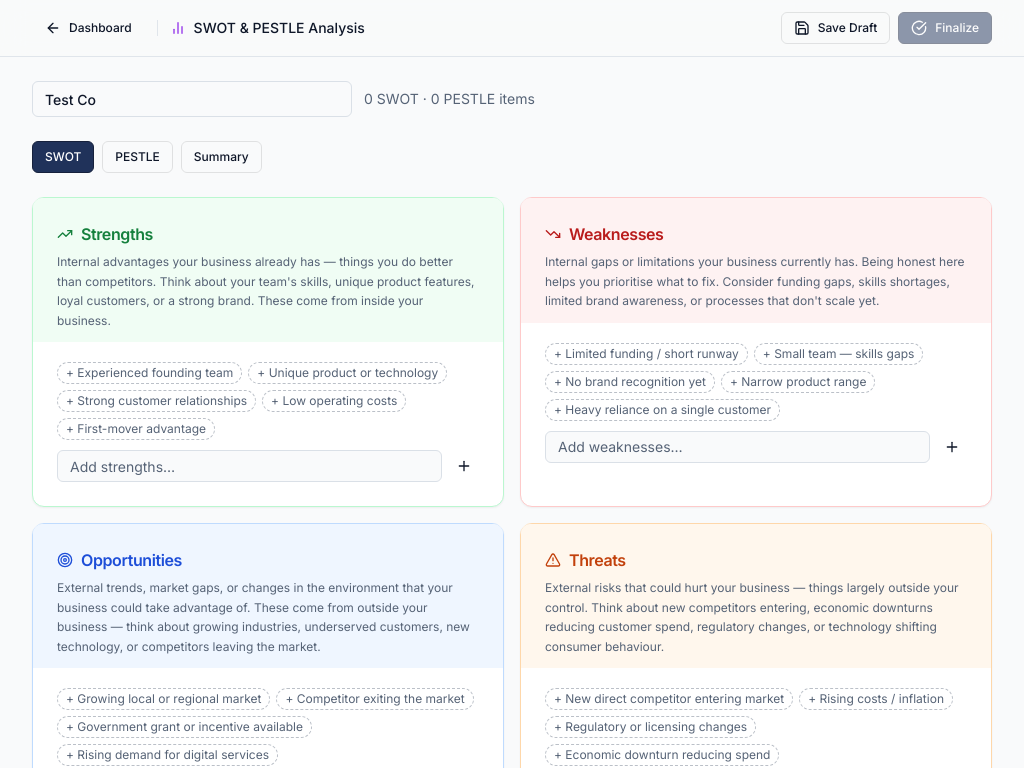
SWOTPestleTool › switching back to SWOT from PESTLE restores SWOT headings
The image size is (1024, 768).
What coordinates should you click on to do the following:
click the button with test id "button-tab-pestle"
I would click on:
 (138, 157)
Its box is [102,141,173,173].
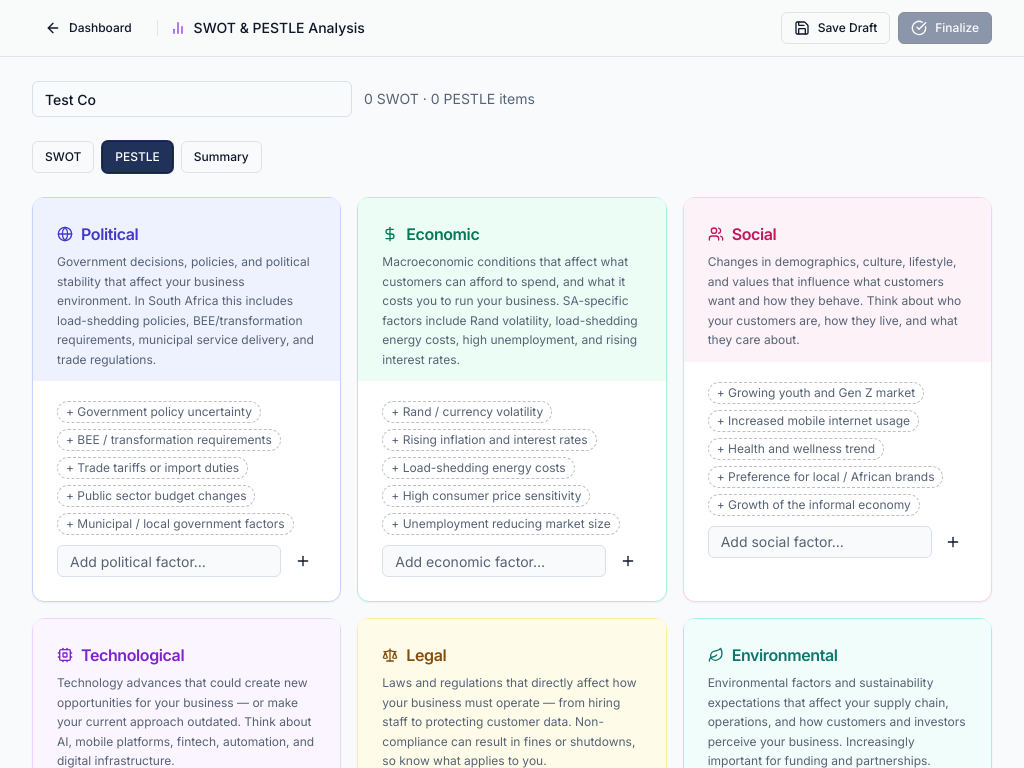
Expected: the text "Political" is shown, [57,224,138,244]
What coordinates should you click on to do the following:
click the button with test id "button-tab-swot"
I would click on:
 (63, 157)
Its box is [32,141,94,173].
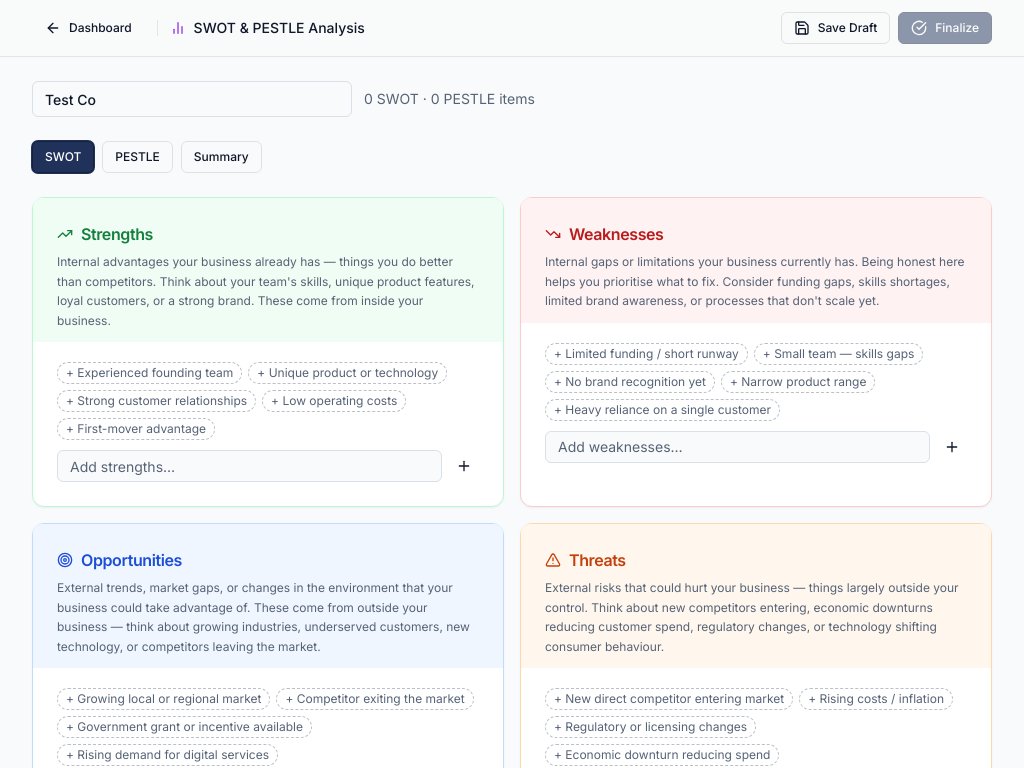
Expected: the text "Strengths" is shown, [57,224,153,244]
